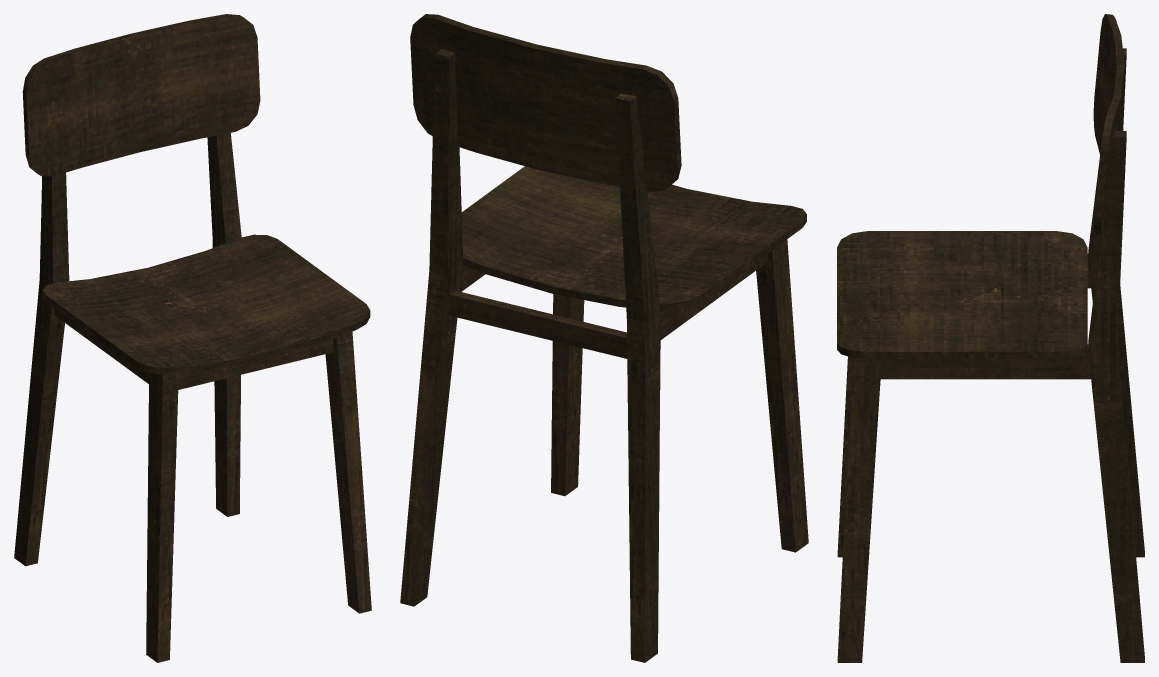
Rendered from chair_mp_3_3.glb.
3 views of the same model, side by side, from view 1: azimuth 30°, elevation 25°; view 2: azimuth 150°, elevation 25°; view 3: azimuth 270°, elevation 25° (orthographic). The views are drawn at different scales.
Visible parts, largest first — view 1: chair_mp_3_3; view 2: chair_mp_3_3; view 3: chair_mp_3_3.
Part boxes in pixels (box(x1,y1,x2,y2)): chair_mp_3_3: box(14, 14, 371, 662); chair_mp_3_3: box(400, 14, 808, 662); chair_mp_3_3: box(837, 14, 1144, 662).
Size of the model in its own units: 0.4763 by 0.9967 by 0.5126.
1 material, 1 textured.
